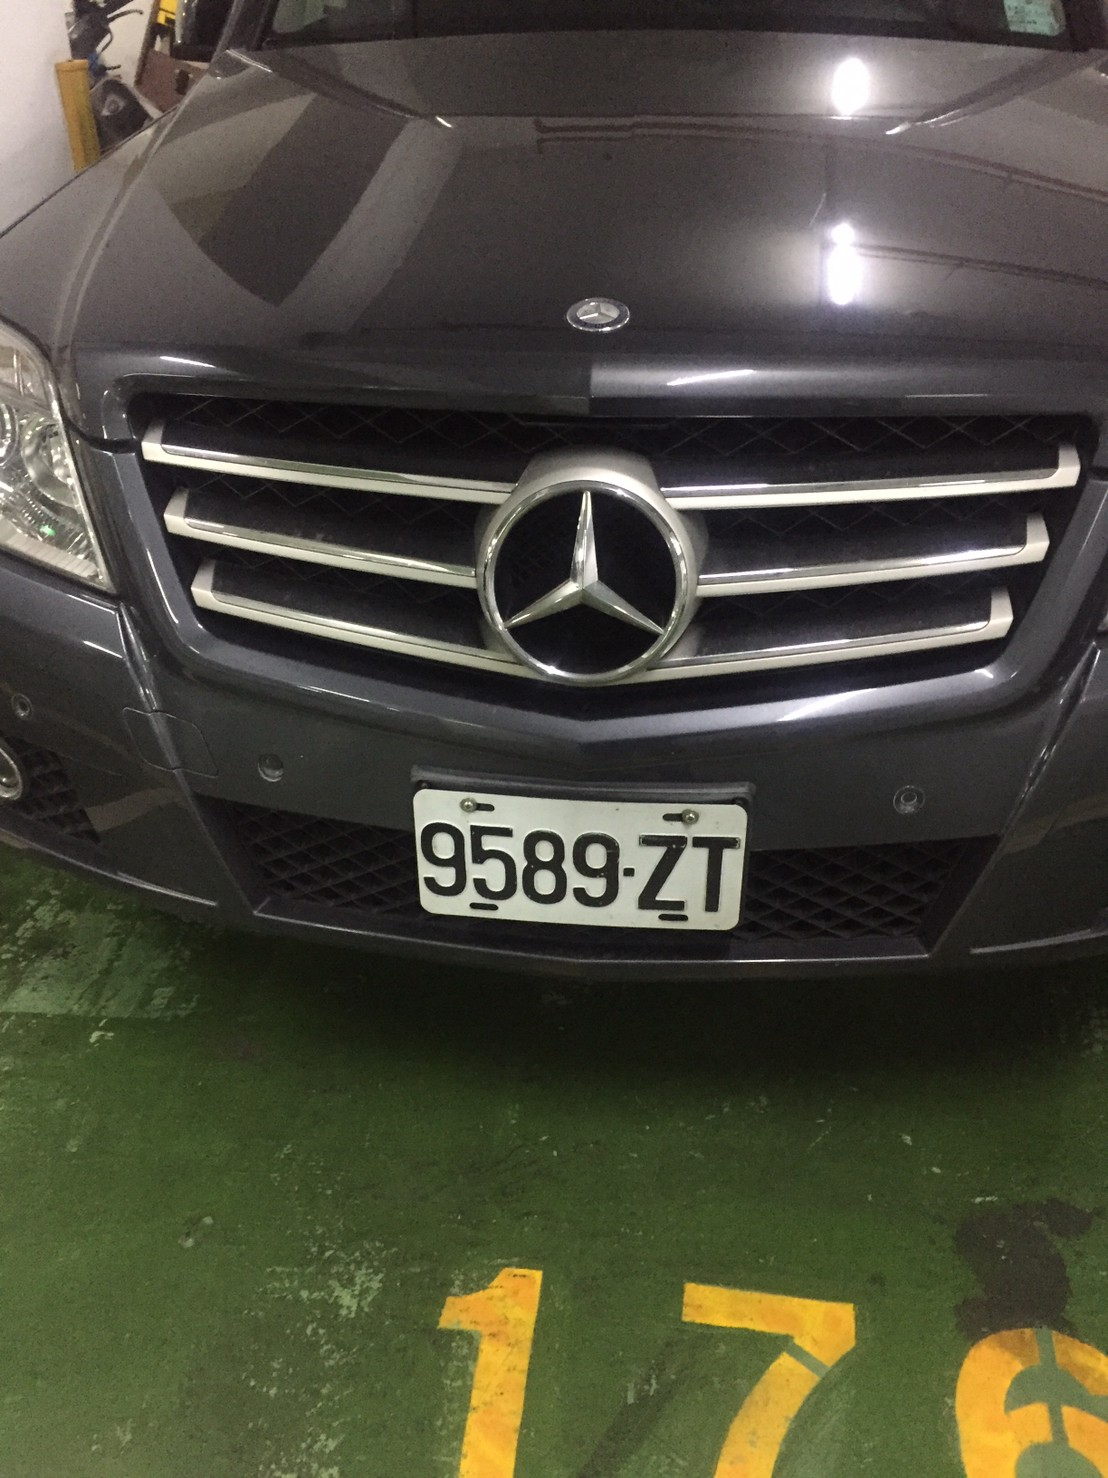LP: (406, 779, 750, 933)
